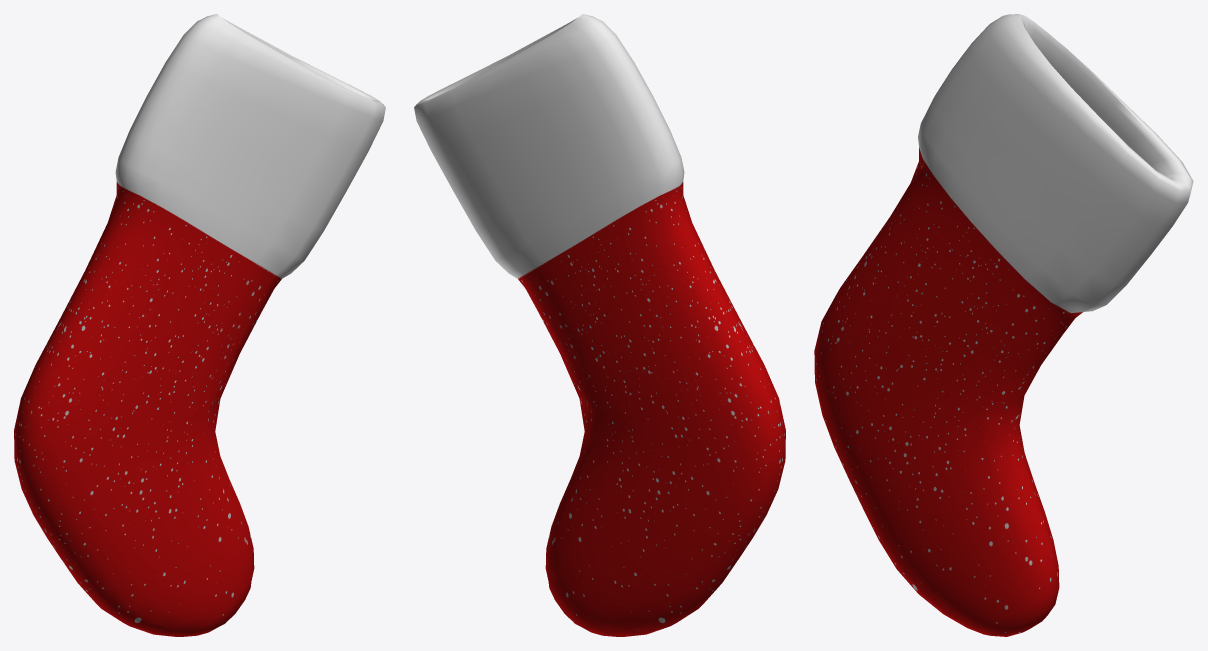
Rendered from christmas_sock.glb.
3 views of the same model, side by side, from view 1: azimuth 30°, elevation 25°; view 2: azimuth 150°, elevation 25°; view 3: azimuth 330°, elevation 25° (orthographic).
Visible parts, largest first — view 1: Sock; view 2: Sock; view 3: Sock.
Part boxes in pixels (x1=…): Sock: x1=14, y1=14, x2=385, y2=636; Sock: x1=414, y1=14, x2=785, y2=636; Sock: x1=814, y1=14, x2=1193, y2=636.
Size of the model in its own units: 0.6868 by 1.1 by 0.1258.
1 material, 1 textured.
